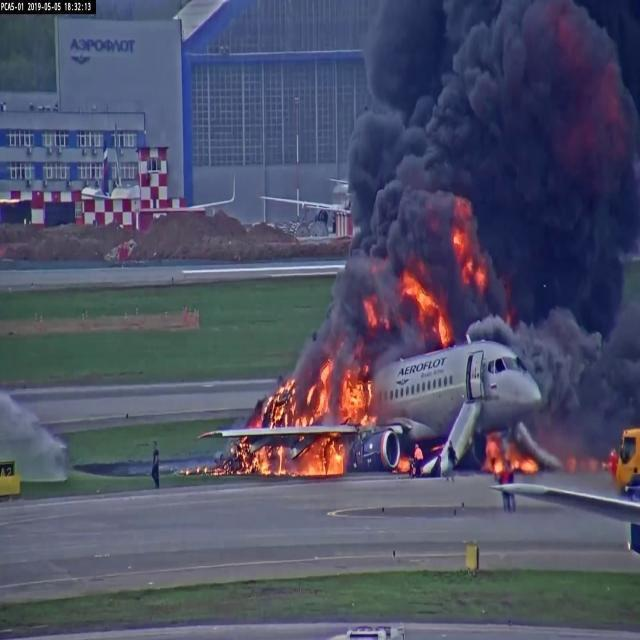Fire: (342, 377, 378, 432), (305, 445, 350, 481)
Smoke: (365, 5, 640, 322)
